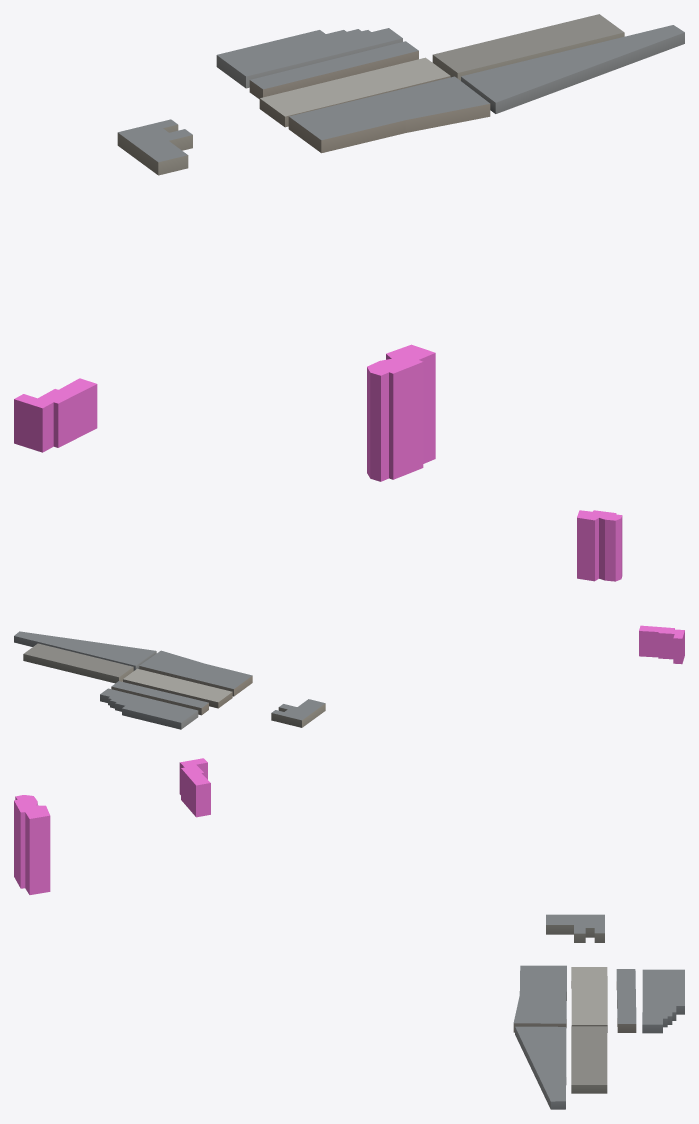
File: bld_15_3.fbx
3 views of the same model, one above another, from view 1: azimuth 30°, elevation 25°; view 2: azimuth 150°, elevation 25°; view 3: azimuth 270°, elevation 25° (orthographic). The views are drawn at different scales.
Parts seen in each view (by area): view 1: bld_15_3_LOD0, bld_15_3_COL; view 2: bld_15_3_LOD0, bld_15_3_COL; view 3: bld_15_3_LOD0, bld_15_3_COL.
Part boxes in pixels (x1,y1,x2,y2): bld_15_3_LOD0: (117, 14, 684, 175); bld_15_3_COL: (14, 344, 435, 481); bld_15_3_LOD0: (14, 631, 325, 729); bld_15_3_COL: (577, 510, 684, 664); bld_15_3_LOD0: (513, 914, 684, 1109); bld_15_3_COL: (14, 758, 210, 894).
Size of what is drawn, in the model's own units: 944 by 105 by 837.
